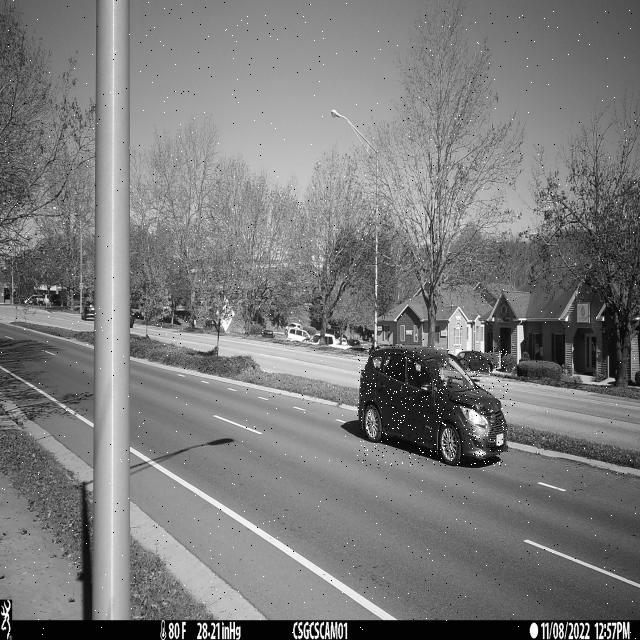SUV: (358, 346, 508, 466)
